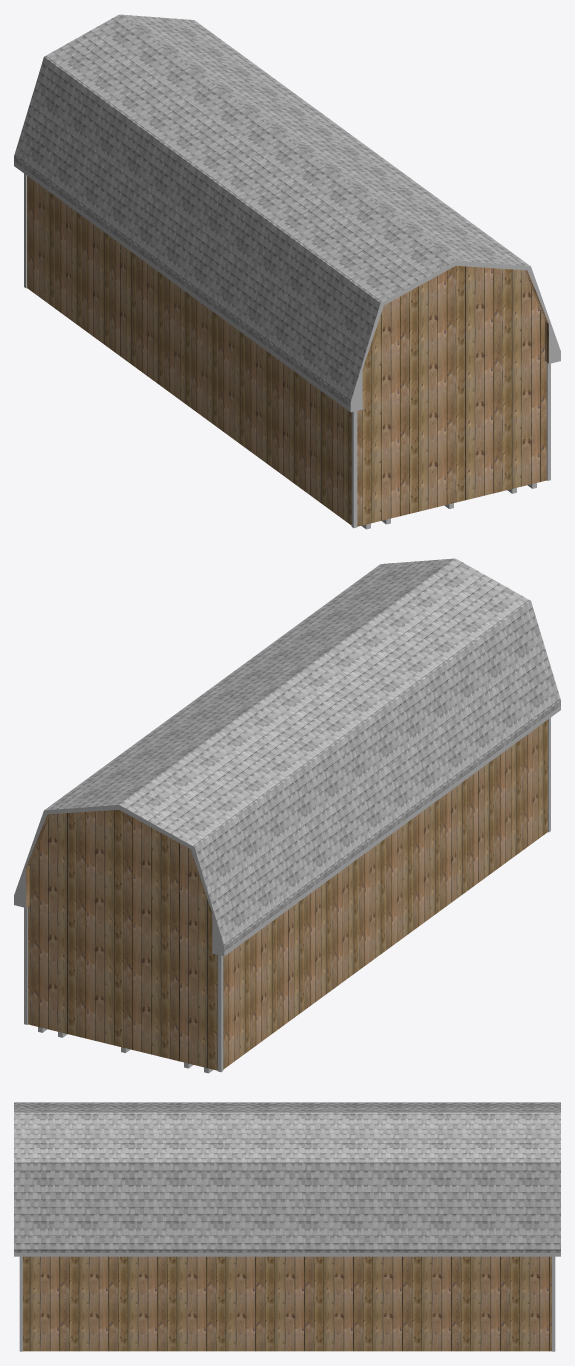
The model's file is Two Story Gambrel_14x40.obj.
3 views of the same model, one above another, from view 1: azimuth 30°, elevation 25°; view 2: azimuth 150°, elevation 25°; view 3: azimuth 270°, elevation 25° (orthographic). The views are drawn at different scales.
Parts seen in each view (by area): view 1: Roof, Shed, Sides, Trim; view 2: Roof, Shed, Sides, Trim; view 3: Roof, Shed, Sides, Trim.
Boxes of the visible parts, x1,y1,x2,y2 form: Roof: (14, 14, 530, 407); Shed: (27, 176, 548, 526); Sides: (14, 161, 560, 412); Trim: (24, 173, 550, 528); Roof: (44, 558, 560, 951); Shed: (26, 720, 547, 1070); Sides: (14, 705, 560, 956); Trim: (24, 717, 550, 1072); Roof: (14, 1102, 560, 1252); Shed: (23, 1256, 551, 1351); Sides: (14, 1253, 560, 1256); Trim: (19, 1256, 555, 1351).
Size of the model in its own units: 4.51 by 5.14 by 12.5.
